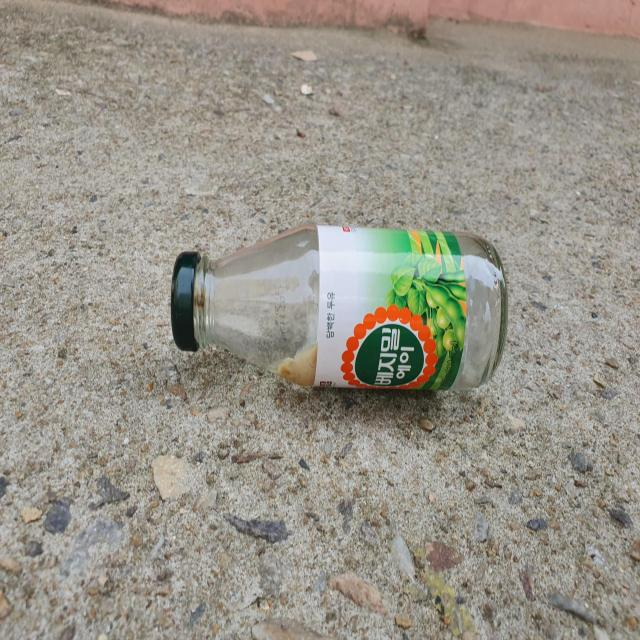glass: (171, 225, 508, 390)
